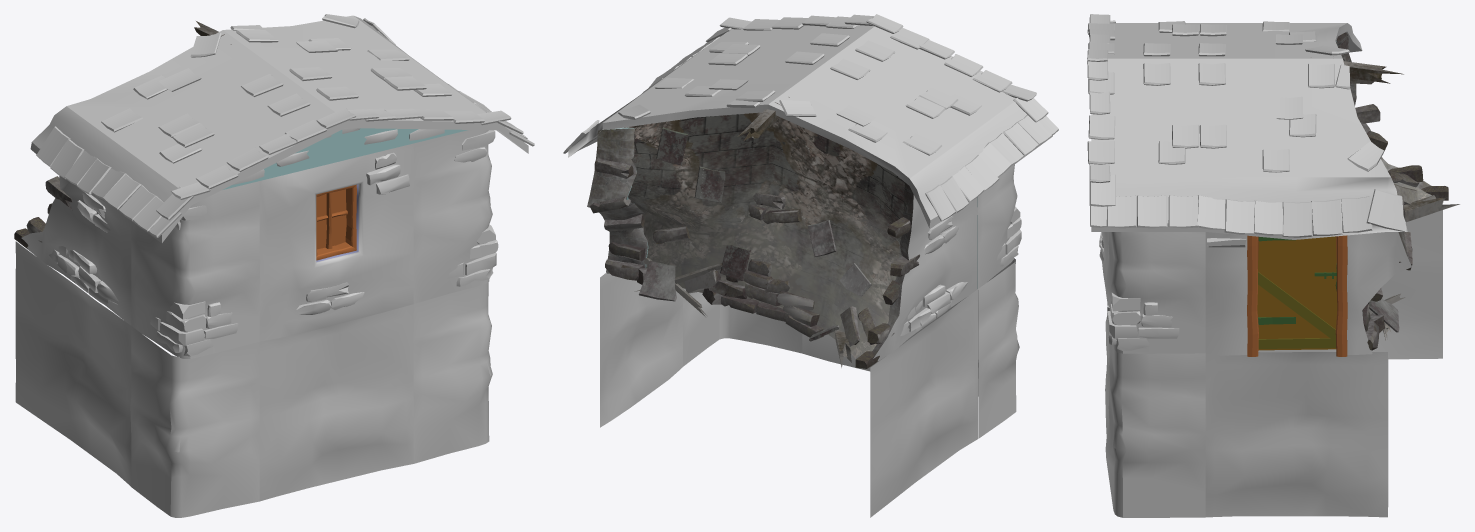
Rendered from Village1_house4_destroyed2.fbx.
3 renders of one model, left to right at view 1: azimuth 30°, elevation 25°; view 2: azimuth 150°, elevation 25°; view 3: azimuth 270°, elevation 25°, orthographic. The views are drawn at different scales.
Visible parts, largest first — view 1: wall.161, wall.166, underground.053, underground.054, underground.055, wall.164, underground.058, wall.167, bricks.127, bricks.126, bricks.130, bricks.123 (+5 smaller); view 2: rebel_low.001, broken_beam.001, wall.166, underground.055, wall.164, underground.059, wall.161, wall.167, underground.054, underground.058, bricks.130, wall.165 (+2 smaller); view 3: wall.164, underground.059, wall.161, wall.165, underground.058, wall.166, Windows_doors.414, underground.055, broken_beam.001, bricks.123, Windows_doors.412, Windows_doors.411.
Boxes of the visible parts, x1,y1,x2,y2 form: wall.161: [21, 128, 492, 358]; wall.166: [66, 30, 355, 205]; underground.053: [259, 304, 413, 501]; underground.054: [130, 326, 259, 517]; underground.055: [15, 241, 131, 486]; wall.164: [223, 14, 511, 130]; underground.058: [413, 282, 492, 463]; wall.167: [30, 106, 193, 242]; bricks.127: [150, 205, 238, 356]; bricks.126: [296, 152, 409, 314]; bricks.130: [49, 192, 118, 306]; bricks.123: [447, 130, 498, 286]; rebel_low.001: [624, 102, 904, 358]; broken_beam.001: [587, 97, 919, 369]; wall.166: [768, 14, 1036, 185]; underground.055: [870, 289, 977, 517]; wall.164: [602, 14, 874, 129]; underground.059: [600, 272, 682, 427]; wall.161: [602, 127, 1017, 369]; wall.167: [909, 98, 1058, 228]; underground.054: [946, 258, 1019, 438]; underground.058: [683, 288, 802, 366]; bricks.130: [900, 215, 967, 335]; wall.165: [563, 27, 731, 157]; wall.164: [1087, 58, 1390, 182]; underground.059: [1205, 352, 1388, 517]; wall.161: [1101, 41, 1411, 355]; wall.165: [1089, 174, 1407, 239]; underground.058: [1105, 344, 1205, 517]; wall.166: [1087, 14, 1349, 61]; Windows_doors.414: [1257, 236, 1337, 350]; underground.055: [1258, 203, 1442, 359]; broken_beam.001: [1311, 32, 1459, 350]; bricks.123: [1107, 293, 1179, 350]; Windows_doors.412: [1335, 235, 1347, 356]; Windows_doors.411: [1247, 235, 1258, 356].
Size of the model in its own units: 495 by 464 by 409.
